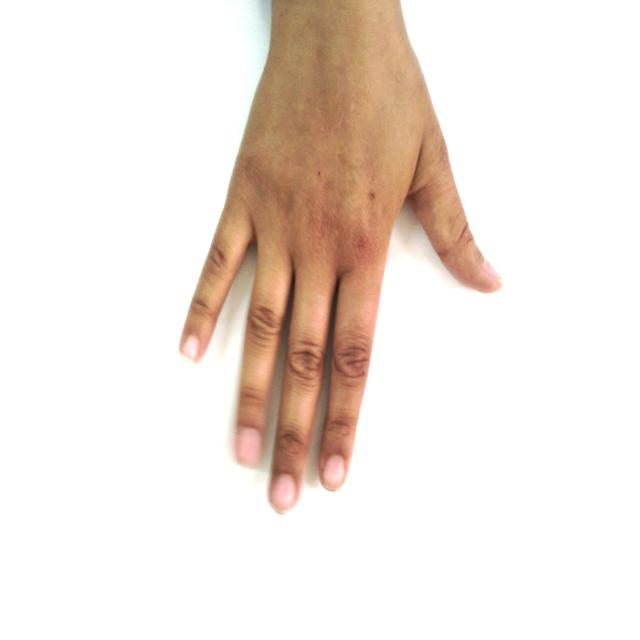Fingernail: (239, 429, 262, 467), (272, 475, 295, 509), (324, 456, 344, 489), (183, 335, 199, 359), (484, 263, 500, 280)
